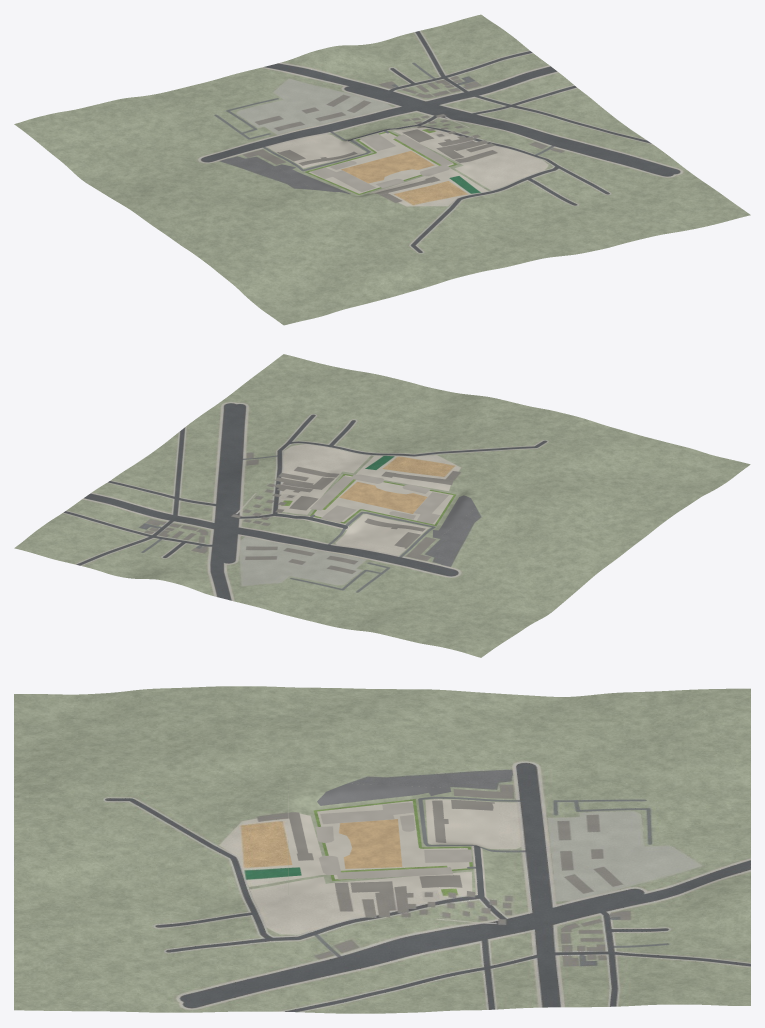
3 views of the same model, one above another, from view 1: azimuth 30°, elevation 25°; view 2: azimuth 150°, elevation 25°; view 3: azimuth 270°, elevation 25° (orthographic). The views are drawn at different scales.
Visible parts, largest first — view 1: ground-area, ground-school; view 2: ground-area, ground-school; view 3: ground-area, ground-school.
Boxes of the visible parts, box(x1,y1,x2,y2) form: ground-area: box(14, 14, 750, 325); ground-school: box(259, 122, 487, 205); ground-area: box(14, 354, 750, 657); ground-school: box(268, 462, 497, 553); ground-area: box(14, 686, 750, 1013); ground-school: box(288, 783, 498, 898).
Bounding box in the file's own units: 784 × 25.31 × 784.
Materials: 2 (2 with a texture image).
